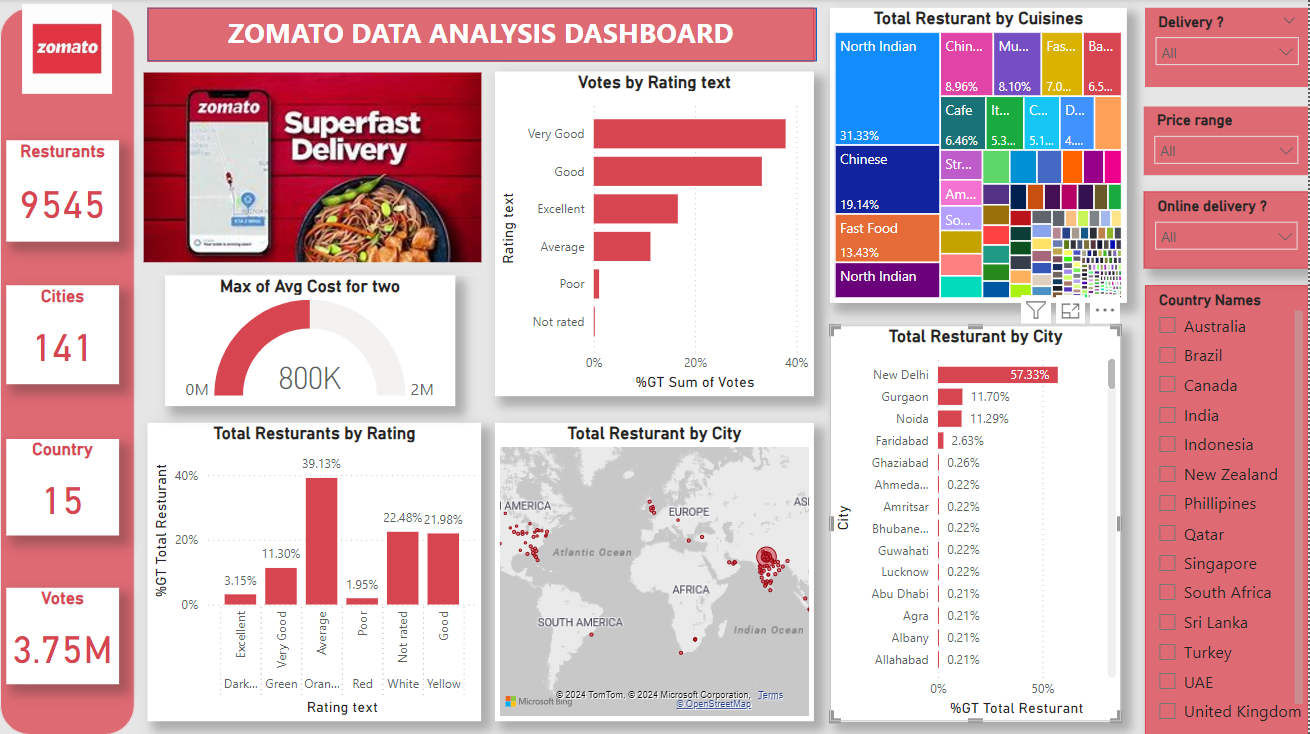

Layout of this report page (visuals, bound fields, positions):
{"tool":"powerbi","page":{"name":"Page 1","canvas":[1280,720],"ordinal":0},"visuals":[{"type":"shape","box":[0,8.1,131.8,711.4],"z":0},{"type":"slicer","fields":{"Values":["zomato.Country Names"]},"box":[1118.9,279.7,161.4,426.3],"z":1000},{"type":"slicer","fields":{"Values":["zomato.Price range"]},"box":[1118.9,104.9,161.4,67.2],"z":2000},{"type":"slicer","fields":{"Values":["zomato.Has Online delivery"]},"box":[1118.9,188.3,161.4,75.3],"z":3000},{"type":"slicer","fields":{"Values":["zomato.Is delivering now"]},"box":[1120.2,8.1,160,78],"z":4000},{"type":"card","title":"Country","fields":{"Values":["zomato.Total Country"]},"box":[6.7,430.3,110.3,94.1],"z":5000},{"type":"card","title":"Votes","fields":{"Values":["Sum(zomato.Votes)"]},"box":[6.7,575.6,110.3,94.1],"z":6000},{"type":"clusteredBarChart","title":"Total Resturant by City","fields":{"Category":["zomato.City"],"Y":["zomato.Total Resturant"]},"box":[812.3,318.7,285.1,387.3],"z":7000},{"type":"treemap","title":"Total Resturant by Cuisines","fields":{"Group":["zomato.Cuisines"],"Values":["zomato.Total Resturant"]},"box":[812.3,8.1,290.5,289.1],"z":8000},{"type":"columnChart","title":"Total Resturants by Rating","fields":{"Category":["zomato.Rating color","zomato.Rating text"],"Y":["zomato.Total Resturant"]},"box":[143.9,414.2,326.8,291.8],"z":9000},{"type":"clusteredBarChart","title":"Votes by Rating text","fields":{"Category":["zomato.Rating text"],"Y":["Sum(zomato.Votes)"]},"box":[484.1,71.3,312,317.4],"z":10000},{"type":"gauge","title":"Max of Avg Cost for two","fields":{"Y":["Max(zomato.Average Cost for two)"]},"box":[161.4,270.3,283.8,127.8],"z":11000},{"type":"map","fields":{"Category":["zomato.City"],"Size":["zomato.Total Resturant"]},"box":[484.1,414.2,312,291.8],"z":12000},{"type":"image","box":[135.8,60.5,340.2,209.8],"z":13000},{"type":"card","title":"Resturants","fields":{"Values":["zomato.Total Resturant"]},"box":[6.7,138.5,110.3,99.5],"z":14000},{"type":"card","title":"Cities","fields":{"Values":["zomato.Total Cities"]},"box":[6.7,279.7,110.3,96.8],"z":15000},{"type":"image","box":[0,0,131.8,98.2],"z":16000},{"type":"shape","box":[143.9,8.1,654.9,52.4],"z":17000},{"type":"textbox","box":[143.9,8.1,652.2,52.4],"z":18000}]}

Visuals, with their boxes in screenshot pixels (x1, y1, x2, y2), scaled from the page's 1280x720 canvas onto the 1310x734 screenshot:
shape: <bbox>0, 8, 135, 733</bbox>
slicer - zomato.Country Names: <bbox>1145, 285, 1309, 720</bbox>
slicer - zomato.Price range: <bbox>1145, 107, 1309, 175</bbox>
slicer - zomato.Has Online delivery: <bbox>1145, 192, 1309, 269</bbox>
slicer - zomato.Is delivering now: <bbox>1146, 8, 1309, 88</bbox>
"Country" card: <bbox>7, 439, 120, 535</bbox>
"Votes" card: <bbox>7, 587, 120, 683</bbox>
"Total Resturant by City" clusteredBarChart: <bbox>831, 325, 1123, 720</bbox>
"Total Resturant by Cuisines" treemap: <bbox>831, 8, 1129, 303</bbox>
"Total Resturants by Rating" columnChart: <bbox>147, 422, 482, 720</bbox>
"Votes by Rating text" clusteredBarChart: <bbox>495, 73, 815, 396</bbox>
"Max of Avg Cost for two" gauge: <bbox>165, 276, 456, 406</bbox>
map - zomato.City x zomato.Total Resturant: <bbox>495, 422, 815, 720</bbox>
image: <bbox>139, 62, 487, 276</bbox>
"Resturants" card: <bbox>7, 141, 120, 243</bbox>
"Cities" card: <bbox>7, 285, 120, 384</bbox>
image: <bbox>0, 0, 135, 100</bbox>
shape: <bbox>147, 8, 818, 62</bbox>
textbox: <bbox>147, 8, 815, 62</bbox>
